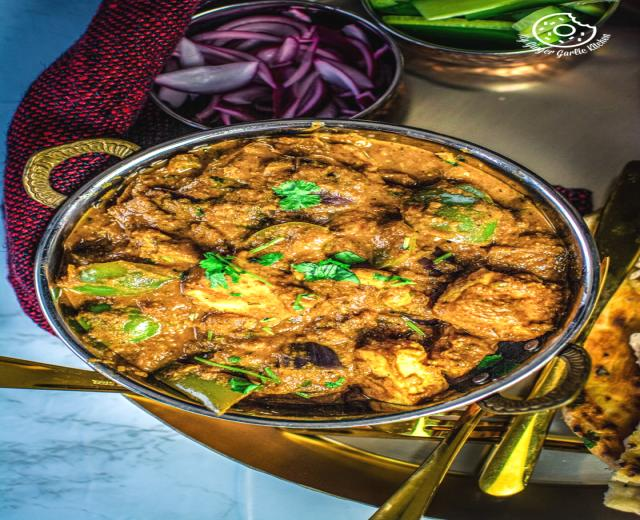kadai paneer: (25, 102, 603, 430), (150, 3, 401, 132), (362, 2, 615, 92)
